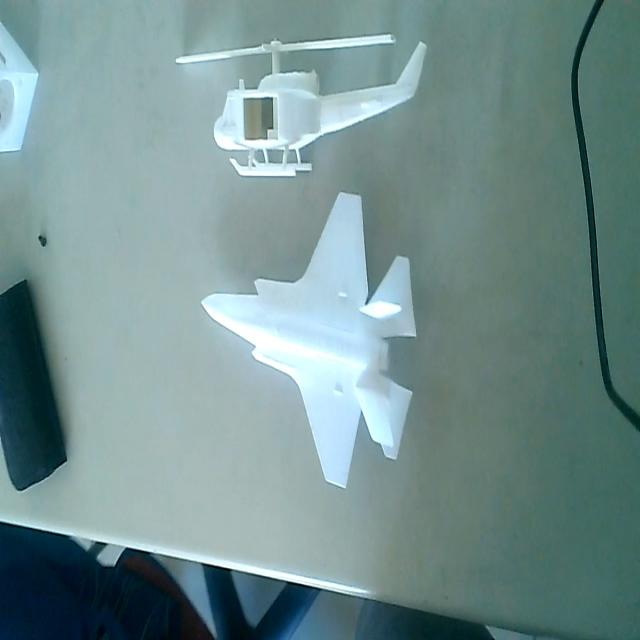Helicopter: (176, 31, 430, 184)
Jet: (201, 185, 415, 492)
